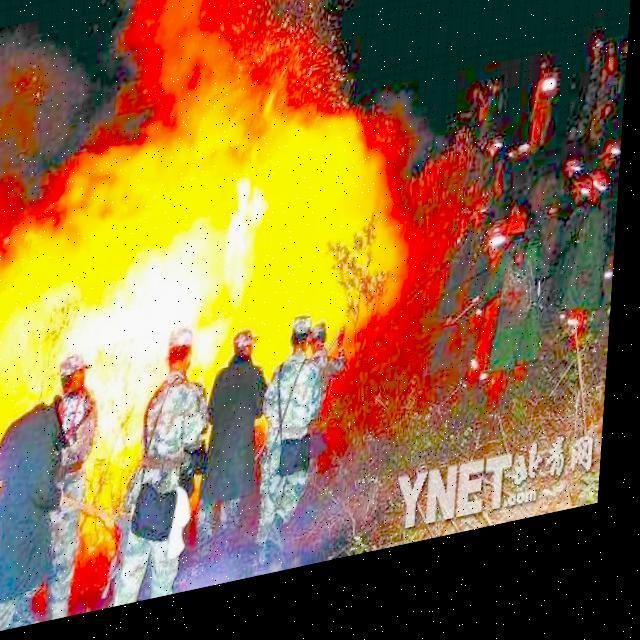Fire: (0, 71, 438, 542)
